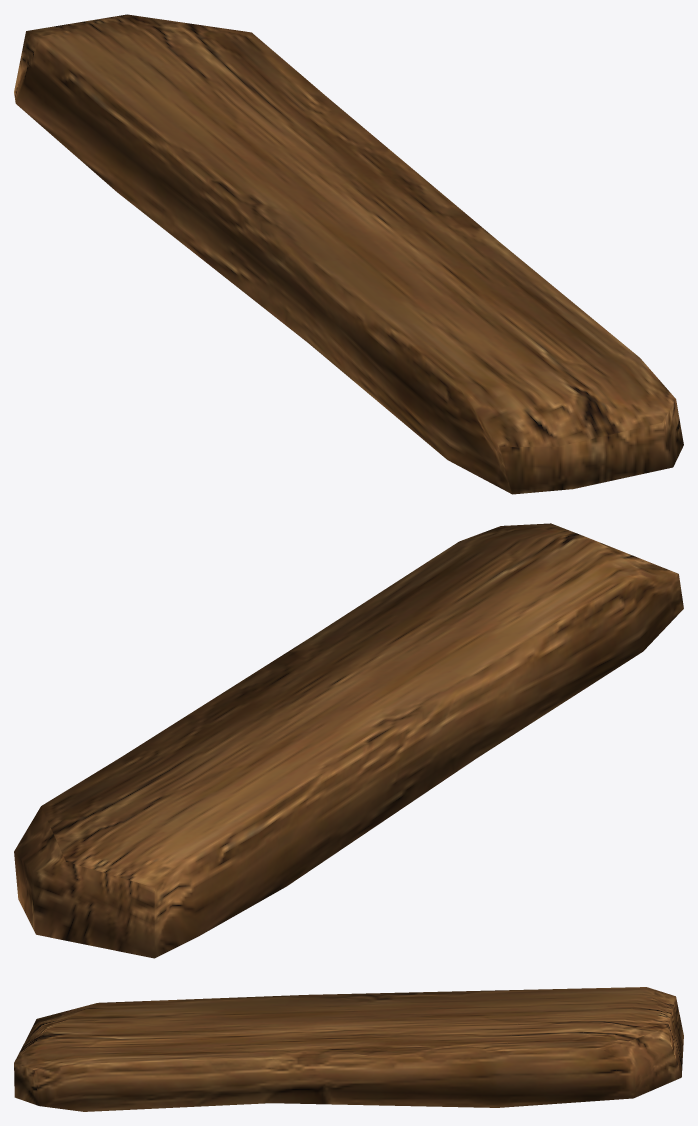
Rendered from board_01.FBX.
3 views of the same model, one above another, from view 1: azimuth 30°, elevation 25°; view 2: azimuth 150°, elevation 25°; view 3: azimuth 270°, elevation 25° (orthographic). The views are drawn at different scales.
Visible parts, largest first — view 1: board_01; view 2: board_01; view 3: board_01.
Part boxes in pixels (left/top/right/bottom): board_01: left=14, top=14, right=683, bottom=494; board_01: left=14, top=523, right=683, bottom=958; board_01: left=14, top=987, right=683, bottom=1111.
Bounding box in the file's own units: 6.84 × 3.66 × 30.32.
